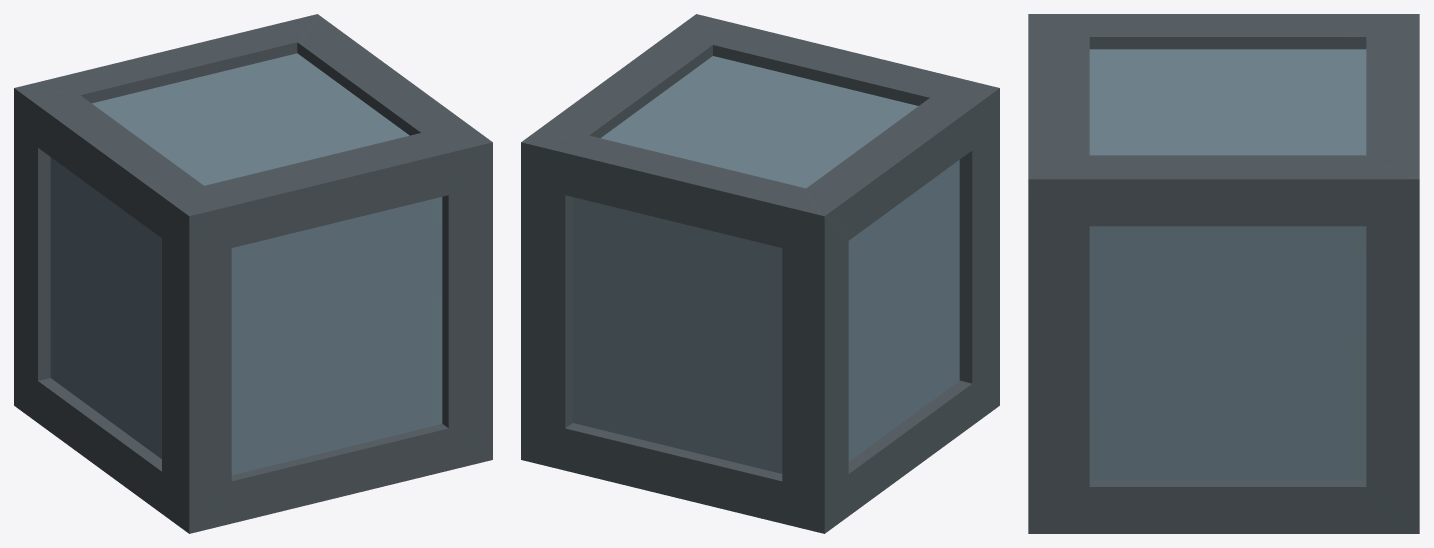
File: Crate-A03.fbx
3 views of the same model, side by side, from view 1: azimuth 30°, elevation 25°; view 2: azimuth 150°, elevation 25°; view 3: azimuth 270°, elevation 25° (orthographic). The views are drawn at different scales.
Visible parts, largest first — view 1: Crate-A03; view 2: Crate-A03; view 3: Crate-A03.
Boxes of the visible parts, bbox=[...] form: Crate-A03: bbox=[14, 14, 492, 533]; Crate-A03: bbox=[521, 14, 999, 533]; Crate-A03: bbox=[1028, 14, 1419, 533].
Bounding box in the file's own units: 77.68 × 77.68 × 77.68.
